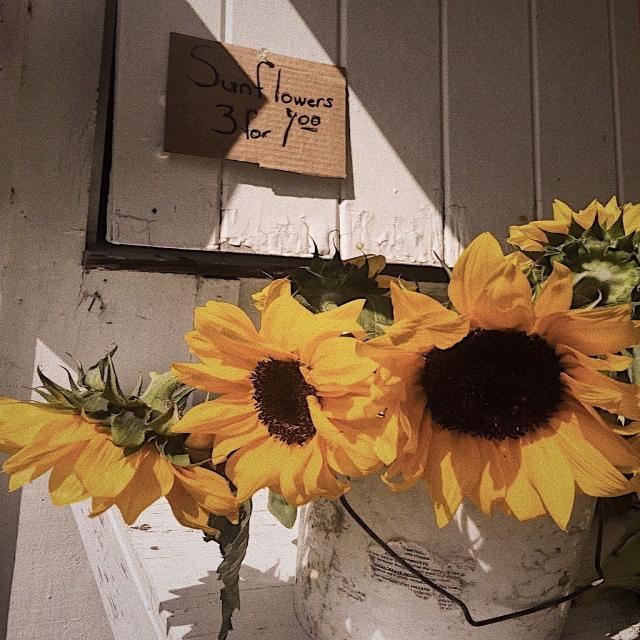sunflower: (356, 230, 638, 532), (168, 277, 396, 507), (0, 389, 237, 536), (504, 194, 640, 312)
